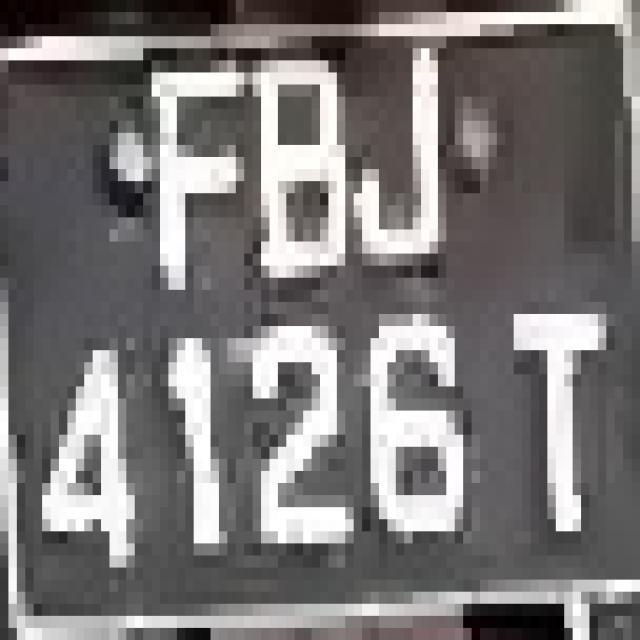1: (160, 278, 227, 592)
2: (244, 302, 362, 567)
4: (9, 302, 143, 604)
6: (354, 290, 488, 543)
B: (244, 36, 362, 302)
F: (126, 36, 236, 302)
J: (337, 24, 471, 302)
T: (463, 266, 623, 556)
